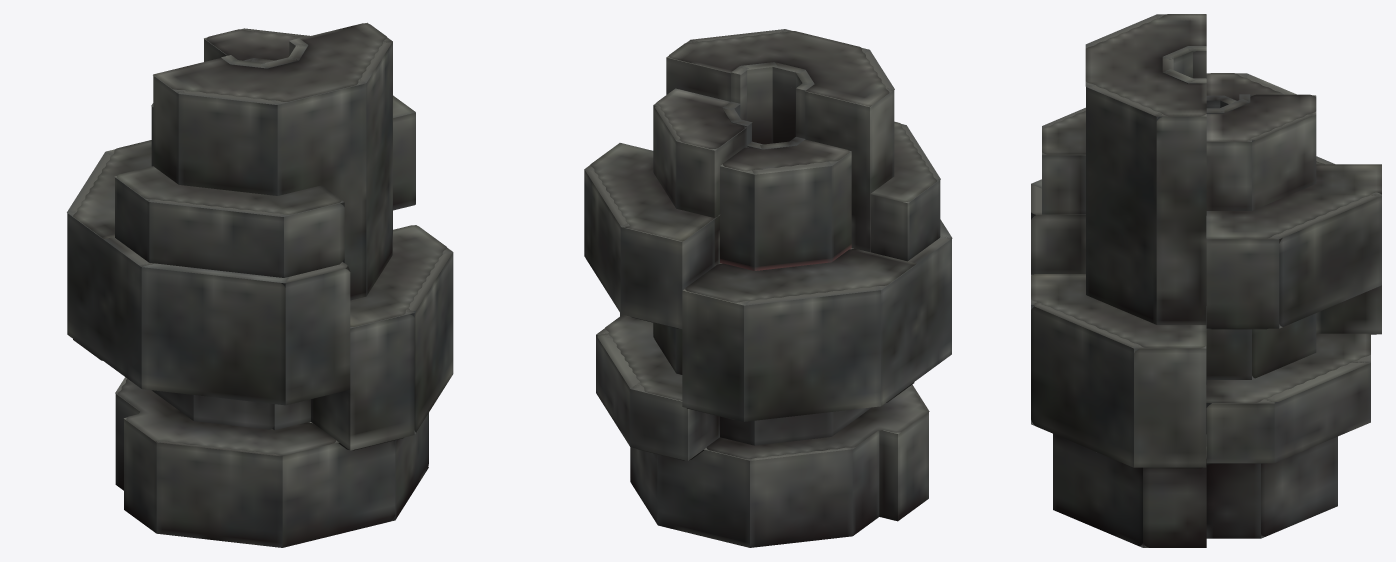
File: relic_stone.geo.obj
3 views of the same model, side by side, from view 1: azimuth 30°, elevation 25°; view 2: azimuth 150°, elevation 25°; view 3: azimuth 270°, elevation 25° (orthographic). The views are drawn at different scales.
Visible parts, largest first — view 1: octagon.057, octagon.038, octagon.027, octagon.037, octagon.061, octagon.060, octagon.028, octagon.003, octagon.001, octagon.058, octagon.025, octagon.011 (+15 smaller); view 2: octagon.059, octagon.016, octagon.032, octagon.060, octagon.003, octagon.033, octagon.058, octagon.029, octagon.054, octagon.007, octagon.006, octagon.040 (+20 smaller); view 3: octagon.025, octagon.062, octagon.026, octagon.055, octagon.063, octagon.003, octagon.022, octagon.036, octagon.056, octagon.041, octagon.006, octagon.058 (+13 smaller).
Boxes of the visible parts, <box> form: octagon.057: <box>141,262,289,405</box>; octagon.038: <box>156,441,282,547</box>; octagon.027: <box>271,79,366,300</box>; octagon.037: <box>282,422,395,547</box>; octagon.061: <box>311,308,414,450</box>; octagon.060: <box>67,211,154,388</box>; octagon.028: <box>178,90,278,195</box>; octagon.003: <box>153,23,386,101</box>; octagon.001: <box>149,199,284,277</box>; octagon.058: <box>105,149,350,405</box>; octagon.025: <box>358,40,392,296</box>; octagon.011: <box>117,379,335,455</box>; octagon.059: <box>744,286,880,421</box>; octagon.016: <box>752,161,831,445</box>; octagon.032: <box>750,447,852,547</box>; octagon.060: <box>850,236,951,405</box>; octagon.003: <box>669,31,889,106</box>; octagon.033: <box>658,448,750,547</box>; octagon.058: <box>682,263,750,421</box>; octagon.029: <box>805,88,894,252</box>; octagon.054: <box>621,215,719,328</box>; octagon.007: <box>685,249,916,302</box>; octagon.006: <box>590,143,717,241</box>; octagon.040: <box>630,382,719,460</box>; octagon.025: <box>1086,84,1162,324</box>; octagon.062: <box>1031,302,1139,467</box>; octagon.026: <box>1156,113,1206,384</box>; octagon.055: <box>1273,193,1381,328</box>; octagon.063: <box>1134,343,1206,467</box>; octagon.003: <box>1085,14,1206,116</box>; octagon.022: <box>1249,114,1316,378</box>; octagon.036: <box>1053,434,1145,547</box>; octagon.056: <box>1206,234,1279,328</box>; octagon.041: <box>1206,360,1370,462</box>; octagon.006: <box>1206,164,1381,238</box>; octagon.058: <box>1031,184,1381,334</box>.
Size of the model in its own units: 2 by 2.63 by 2.
